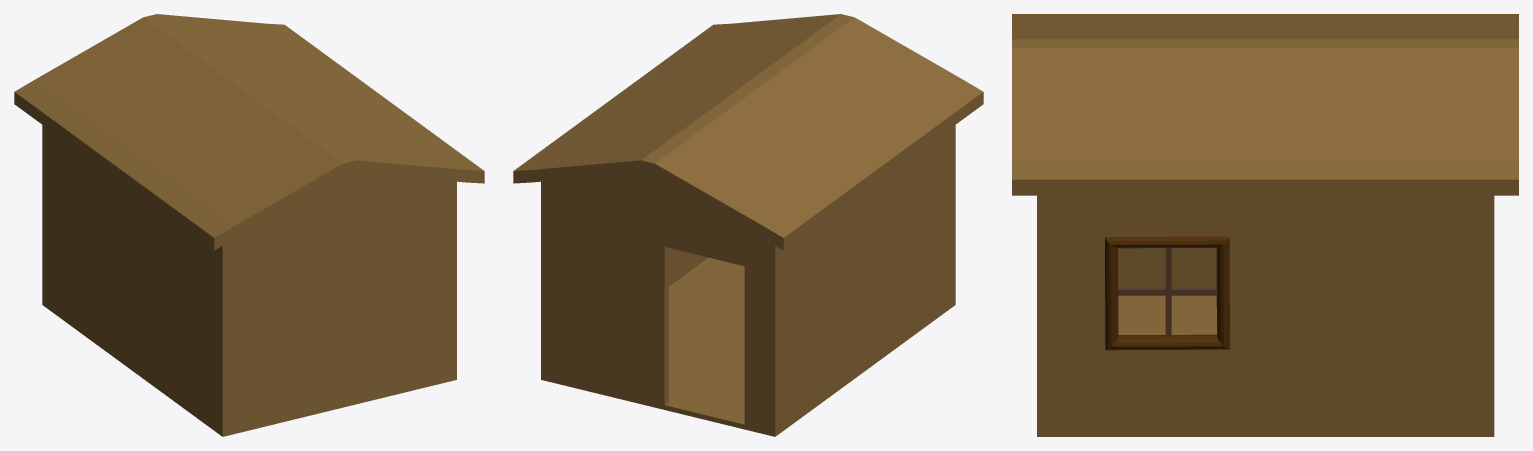
Rendered from Garden_Shed.fbx.
The picture shows the model from 3 angles, left to right: view 1: azimuth 30°, elevation 25°; view 2: azimuth 150°, elevation 25°; view 3: azimuth 270°, elevation 25°; orthographic projection. The views are drawn at different scales.
Parts seen in each view (by area): view 1: Cube; view 2: Cube; view 3: Cube, Torus.001, Cube.003.
Boxes of the visible parts, <box> form: Cube: <box>14,14,484,436</box>; Cube: <box>513,14,983,436</box>; Cube: <box>1012,14,1518,436</box>; Torus.001: <box>1105,236,1229,350</box>; Cube.003: <box>1118,248,1217,337</box>.
Bounding box in the file's own units: 363 × 326 × 465.
